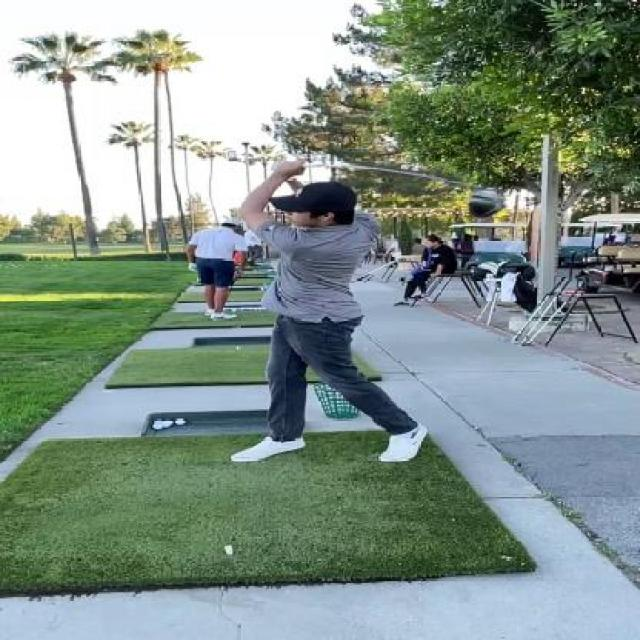club head: (460, 182, 508, 223)
